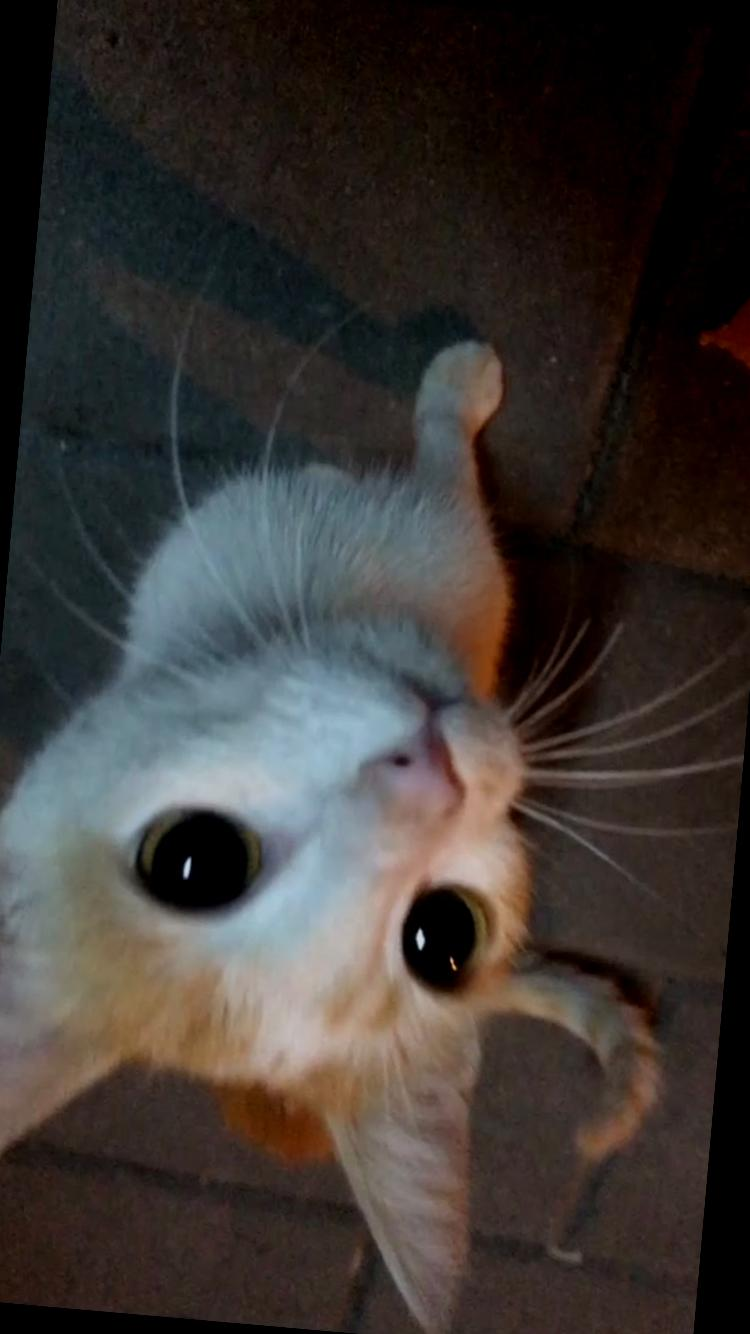macka: (0, 302, 730, 1334)
